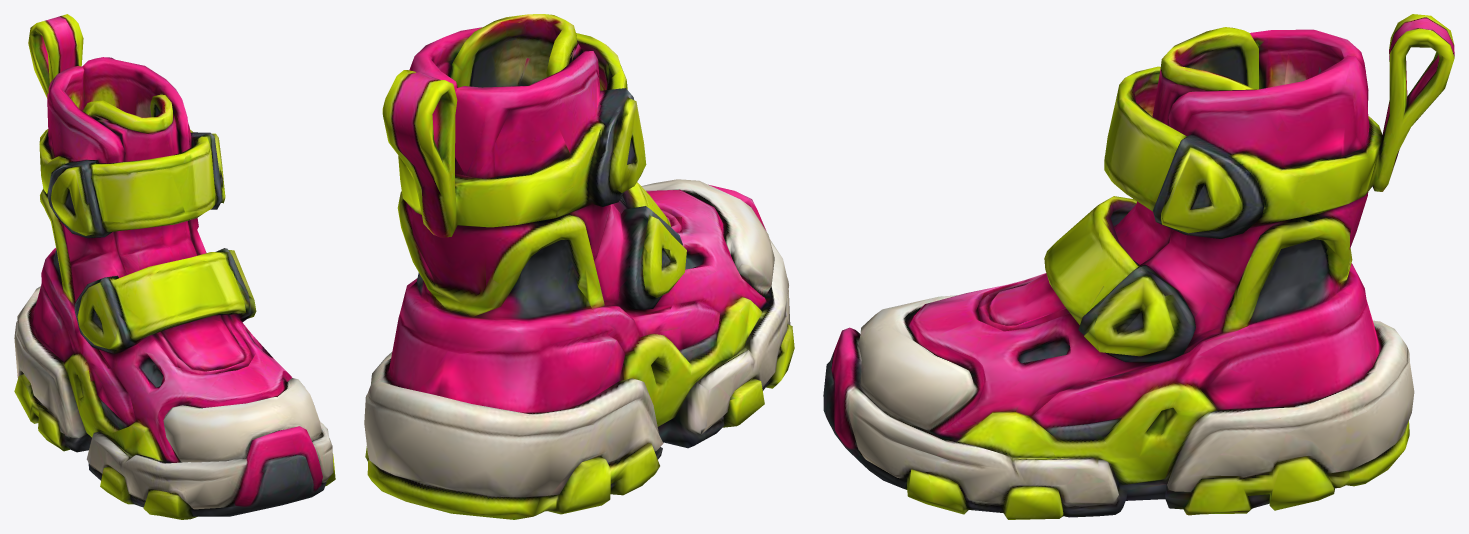
File: GE02_runner_boots.glb
3 views of the same model, side by side, from view 1: azimuth 30°, elevation 25°; view 2: azimuth 150°, elevation 25°; view 3: azimuth 270°, elevation 25° (orthographic). The views are drawn at different scales.
Visible parts, largest first — view 1: tripo_node_d209c83a-8df8-4acb-a100-389bdad6248c; view 2: tripo_node_d209c83a-8df8-4acb-a100-389bdad6248c; view 3: tripo_node_d209c83a-8df8-4acb-a100-389bdad6248c.
Part boxes in pixels (x1,y1,x2,y2): tripo_node_d209c83a-8df8-4acb-a100-389bdad6248c: (14, 14, 335, 519); tripo_node_d209c83a-8df8-4acb-a100-389bdad6248c: (364, 14, 794, 519); tripo_node_d209c83a-8df8-4acb-a100-389bdad6248c: (823, 14, 1454, 519).
Bounding box in the file's own units: 0.4527 × 0.7722 × 0.9996.
1 material, 1 textured.
